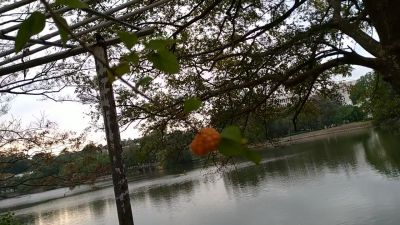eggs: (186, 126, 222, 155)
